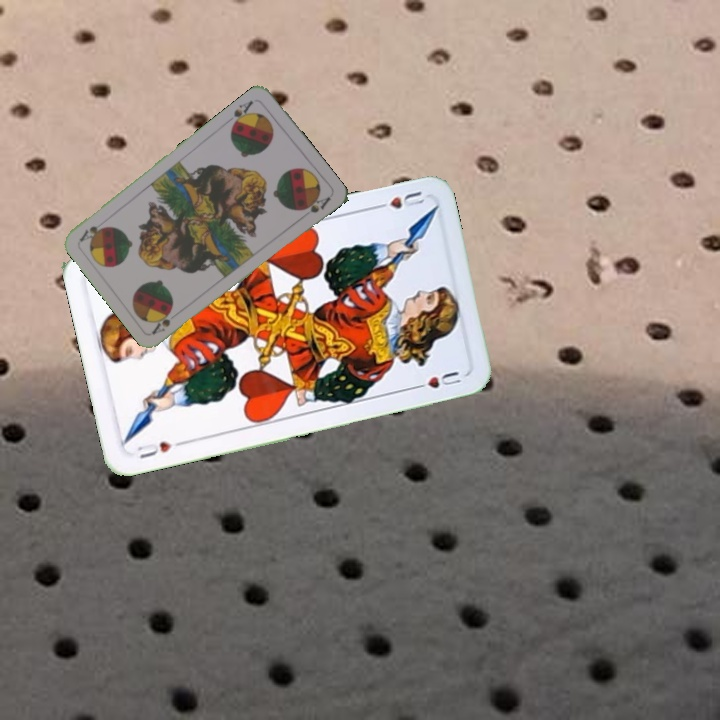HU: (369, 187, 427, 212), (133, 436, 186, 461)
SA: (148, 307, 183, 337), (228, 96, 256, 130)
